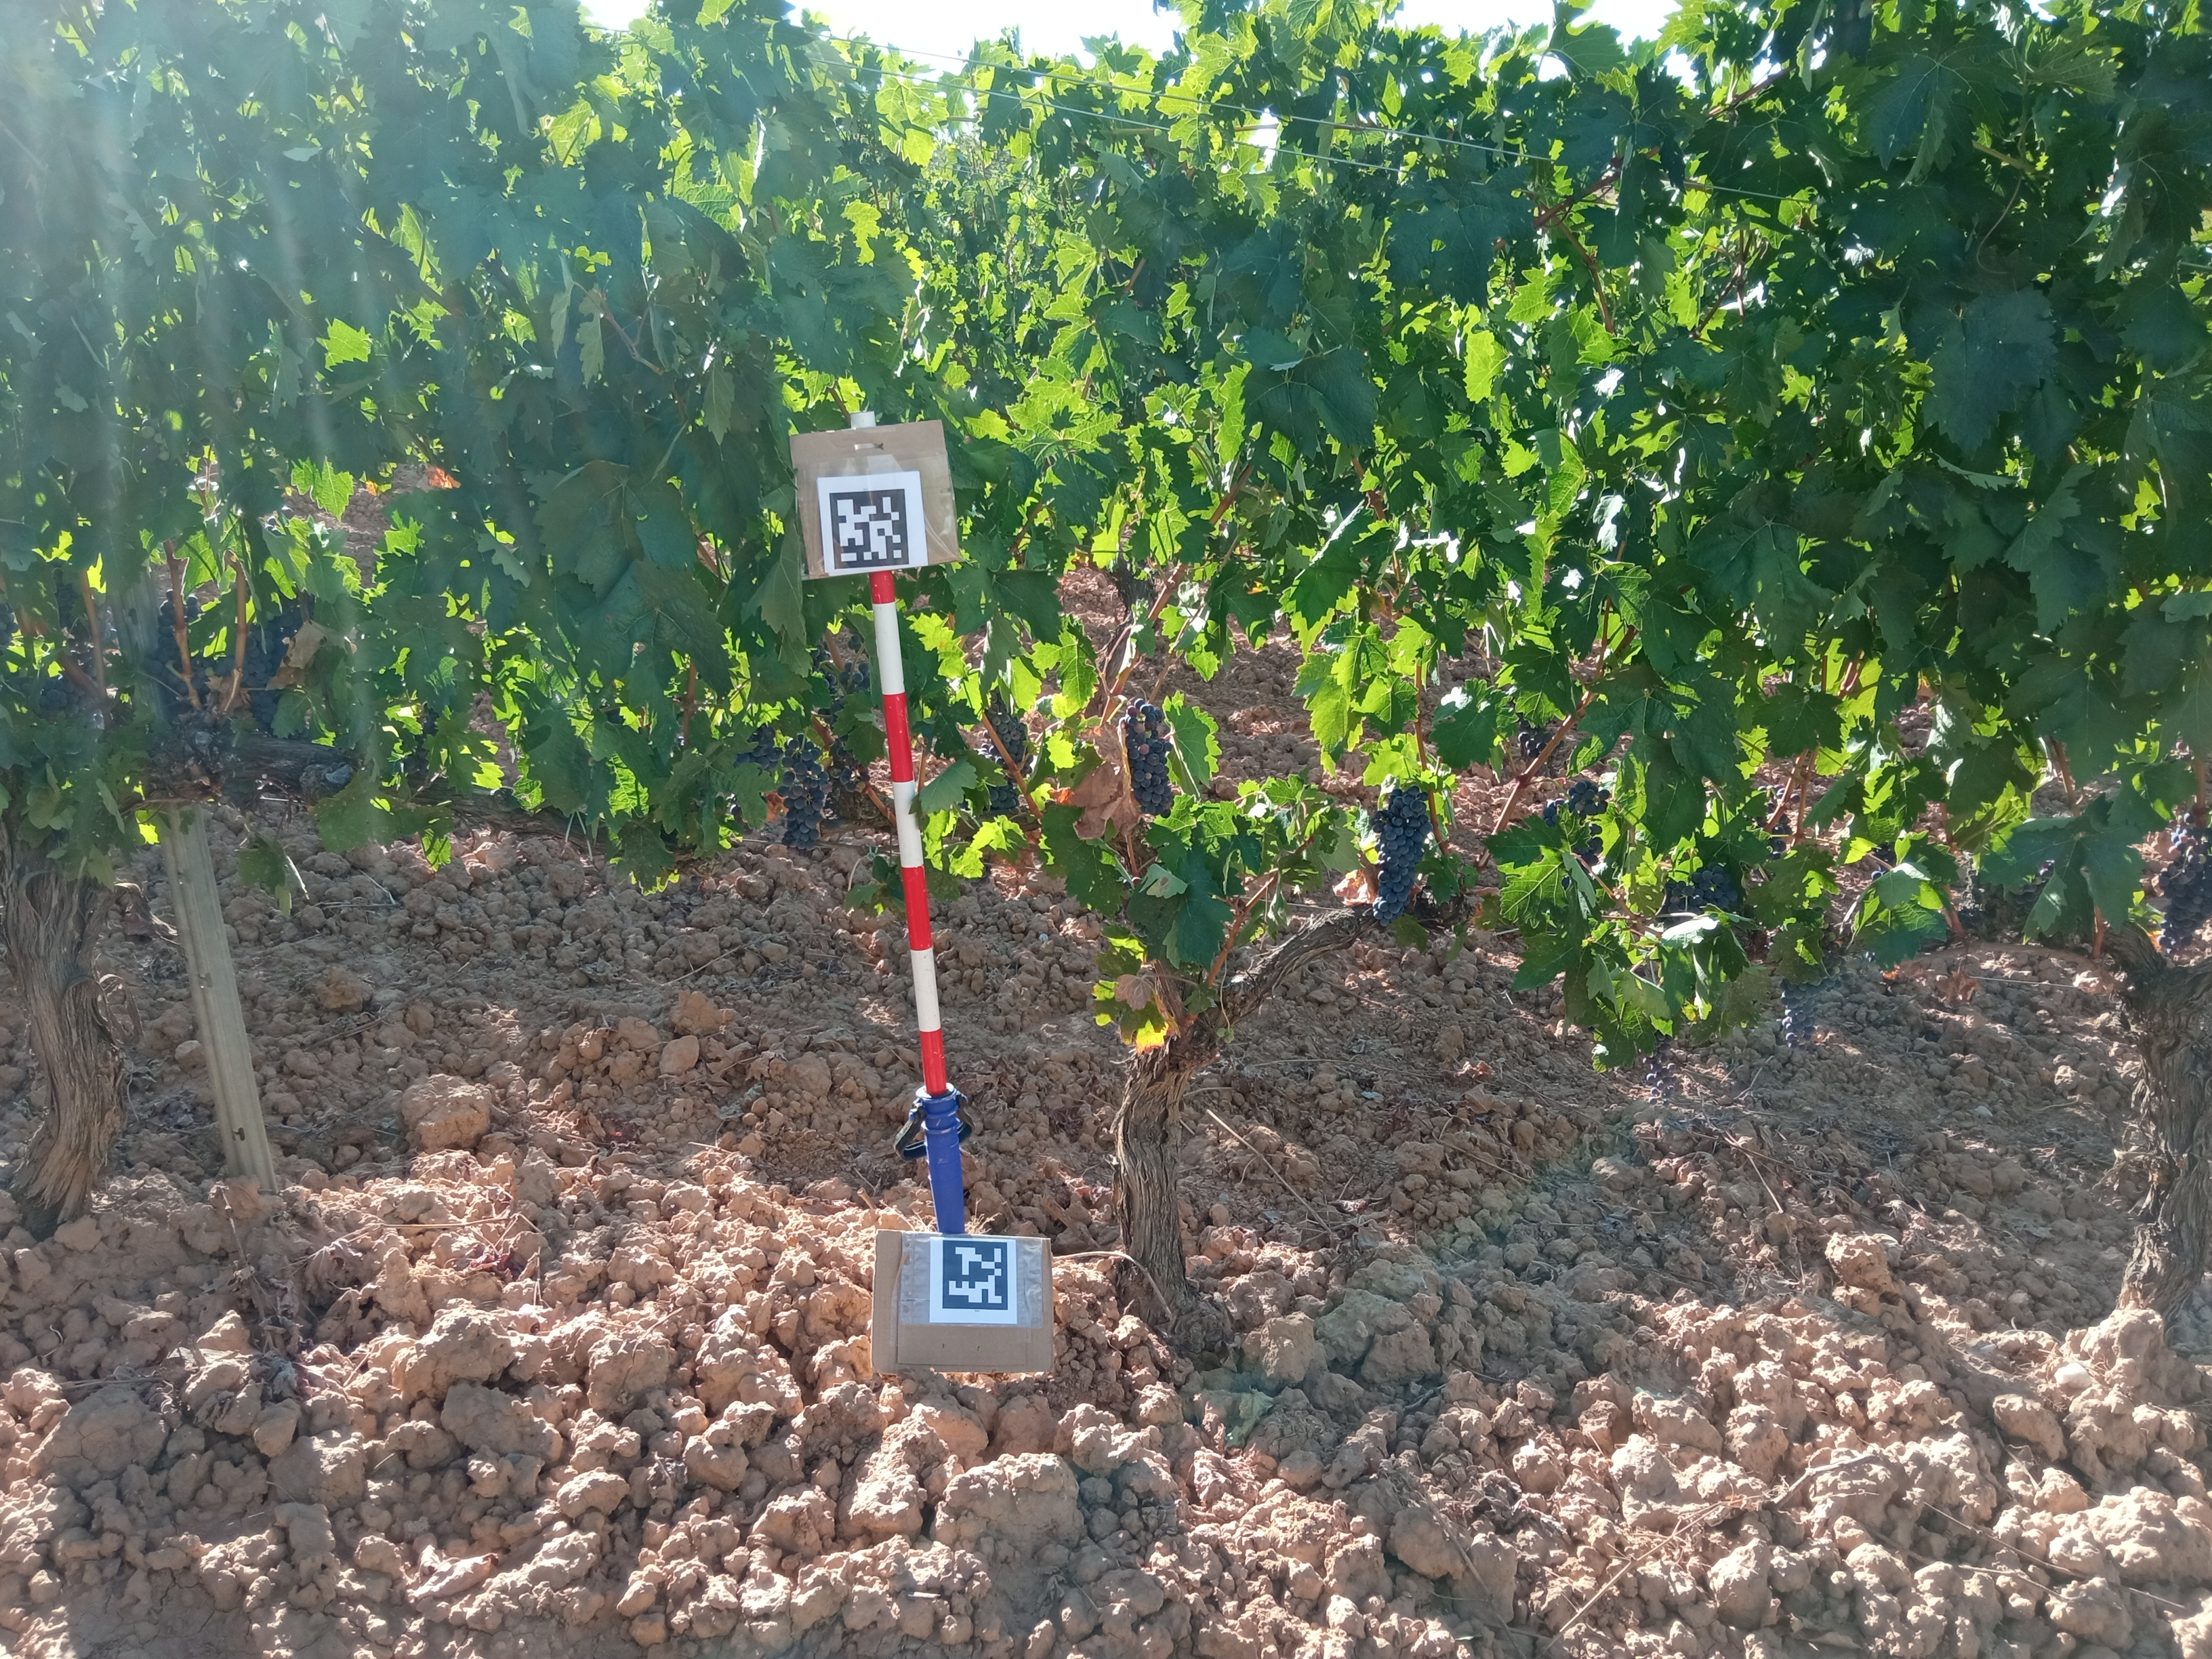grapes: (1372, 784, 1433, 927), (2160, 810, 2212, 960), (244, 612, 303, 737), (782, 735, 831, 859), (1125, 699, 1172, 817), (1777, 976, 1832, 1047), (1665, 863, 1740, 913), (988, 688, 1031, 769), (153, 591, 186, 695), (1548, 777, 1609, 821), (1644, 1032, 1681, 1100), (40, 676, 94, 721), (834, 741, 871, 795), (2013, 870, 2045, 929), (192, 653, 233, 694), (740, 730, 782, 770), (827, 657, 873, 687), (56, 573, 78, 631), (1818, 920, 1841, 974), (1519, 718, 1548, 753), (1576, 824, 1602, 863), (988, 784, 1021, 810)
